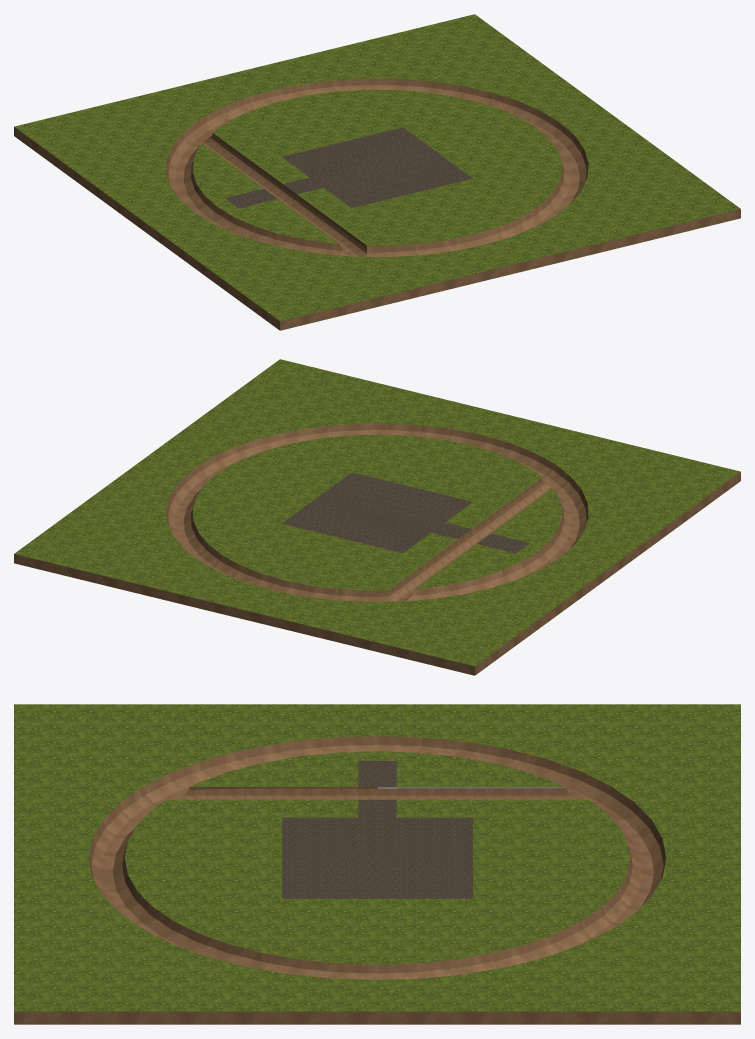
File: Castle_ground_plane.fbx
3 views of the same model, one above another, from view 1: azimuth 30°, elevation 25°; view 2: azimuth 150°, elevation 25°; view 3: azimuth 270°, elevation 25° (orthographic). The views are drawn at different scales.
Visible parts, largest first — view 1: Ground_grass, Ground_moat, Ground_stone; view 2: Ground_grass, Ground_moat, Ground_stone; view 3: Ground_grass, Ground_moat, Ground_stone.
Boxes of the visible parts, <box> form: Ground_grass: <box>14,14,740,330</box>; Ground_moat: <box>166,78,588,256</box>; Ground_stone: <box>225,127,472,208</box>; Ground_grass: <box>14,359,740,675</box>; Ground_moat: <box>166,423,588,601</box>; Ground_stone: <box>282,472,529,553</box>; Ground_grass: <box>14,704,740,1024</box>; Ground_moat: <box>88,736,666,979</box>; Ground_stone: <box>282,761,472,898</box>.
Bounding box in the file's own units: 23.75 × 0.5324 × 23.75.
